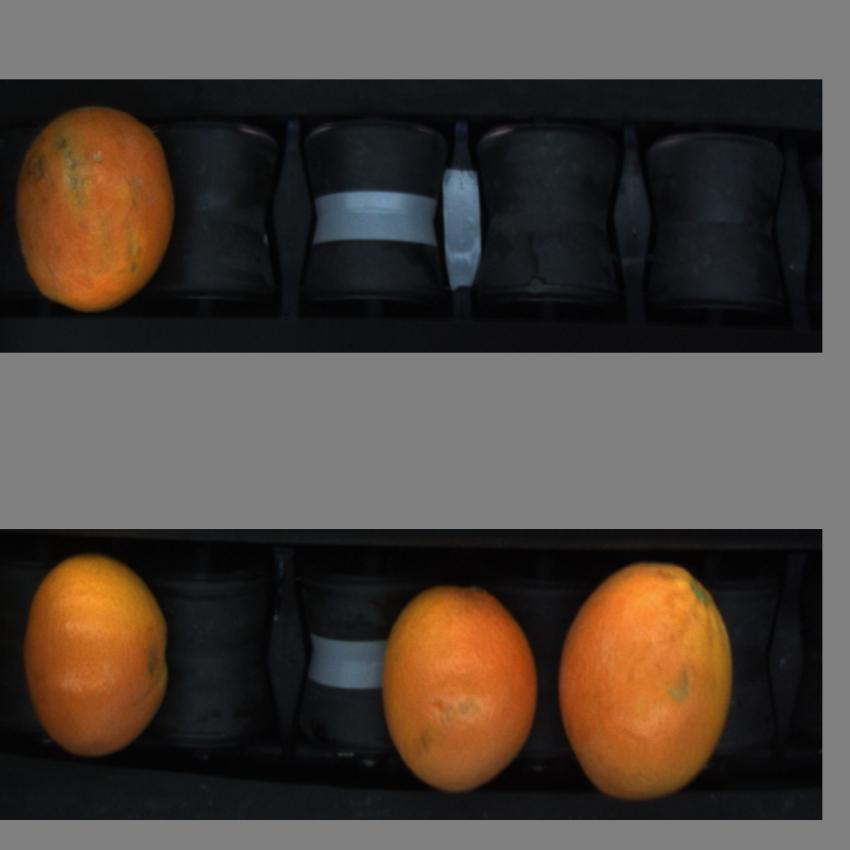Buen estado: (556, 564, 740, 810), (377, 572, 547, 804), (13, 92, 177, 319), (15, 546, 185, 764)
